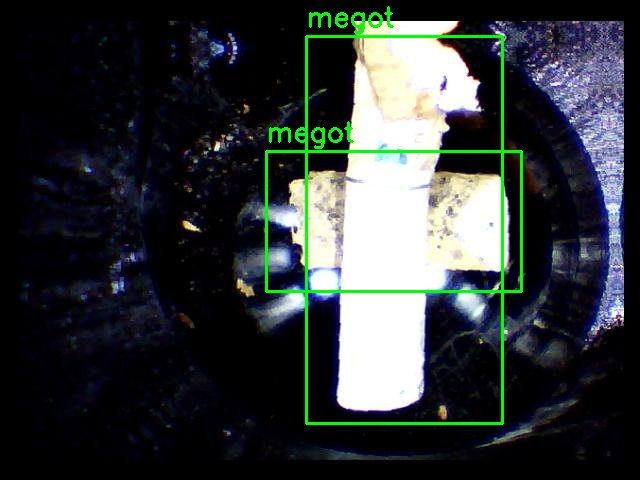megot: (306, 36, 502, 423), (266, 151, 521, 291)
